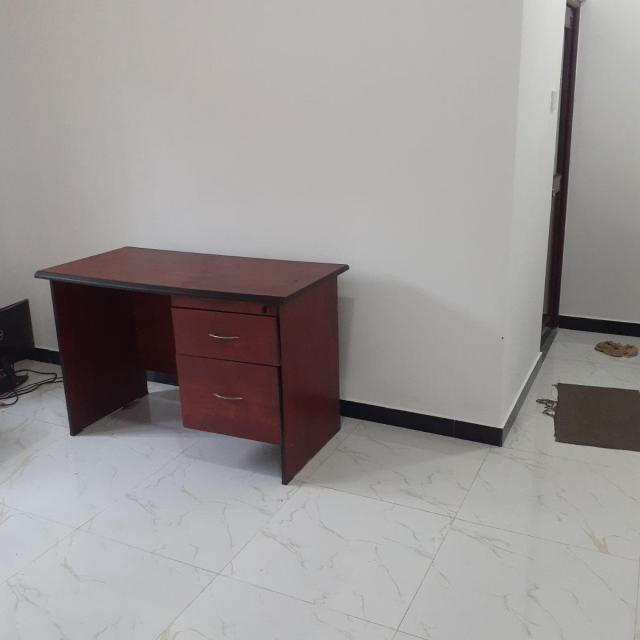table: (24, 236, 369, 502)
